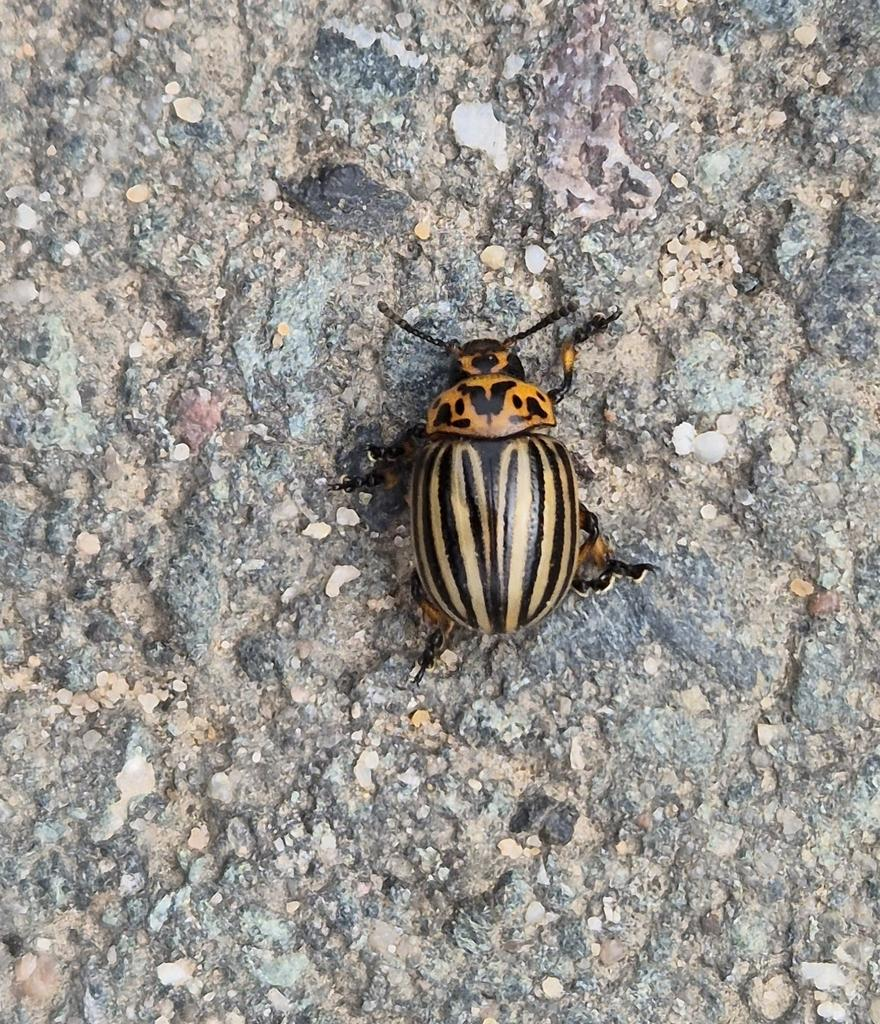potato_beetle: (320, 234, 691, 710)
